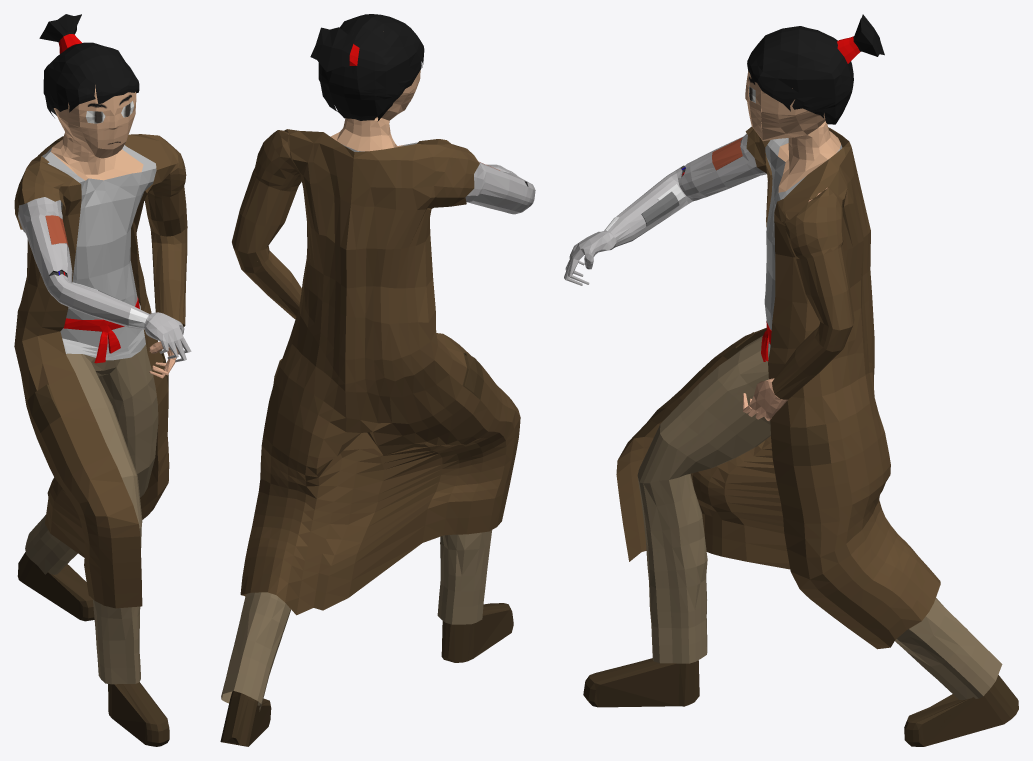
File: Special_Attack_000004.obj
3 renders of one model, left to right at view 1: azimuth 30°, elevation 25°; view 2: azimuth 150°, elevation 25°; view 3: azimuth 270°, elevation 25°, orthographic. The views are drawn at different scales.
Parts seen in each view (by area): view 1: Hair_Cube.004; view 2: Hair_Cube.004; view 3: Hair_Cube.004.
Boxes of the visible parts, box(x1,y1,x2,y2) form: Hair_Cube.004: box(14, 14, 191, 746); Hair_Cube.004: box(220, 14, 535, 746); Hair_Cube.004: box(564, 14, 1018, 746).
Bounding box in the file's own units: 1.25 × 3.68 × 2.17.
